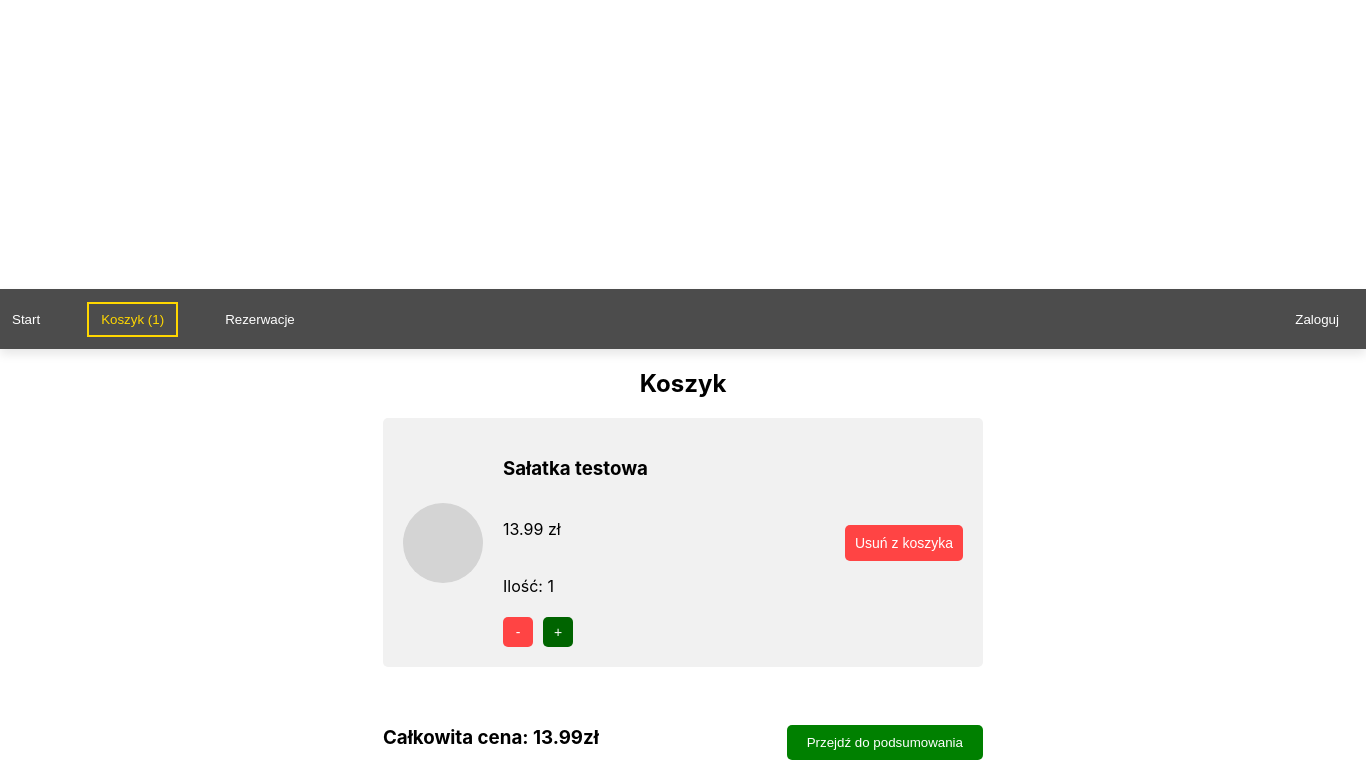
Cart › removes product from cart
(page scrolled)
Expected: the heading "Sałatka testowa" is shown, [503, 456, 648, 480]
What coordinates should you click on to do the following:
click the button "Usuń z koszyka"
I would click on:
 (904, 542)
Its box is [845, 524, 963, 560].
(page scrolled)
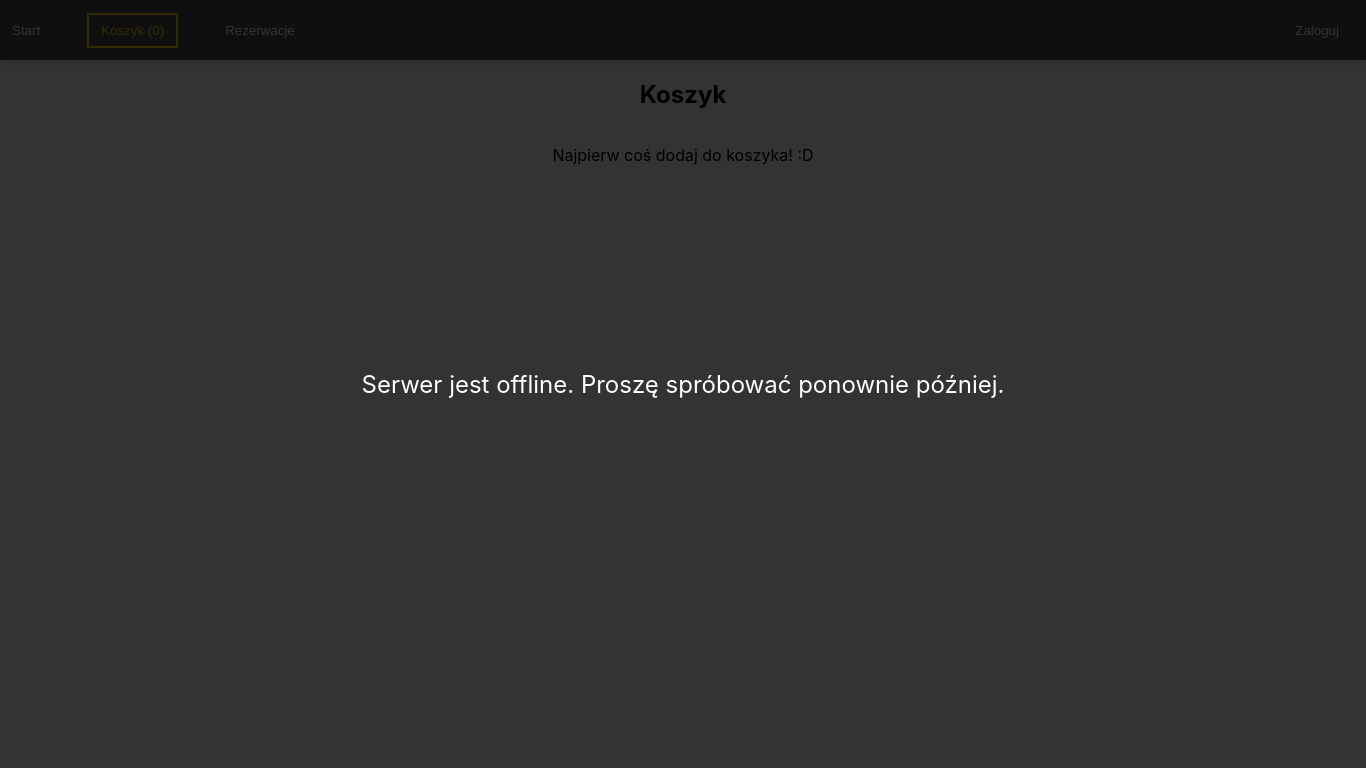
Expected: the heading "Sałatka testowa" is gone
